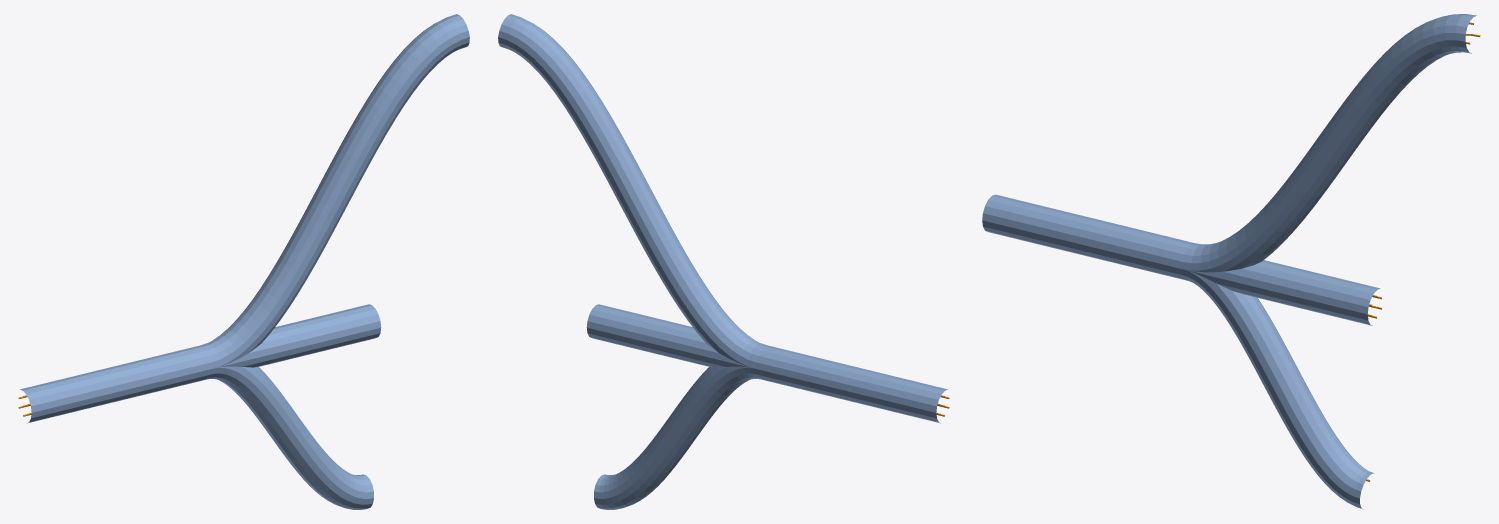
File: 6_branching_A20016147.glb
The picture shows the model from 3 angles, left to right: view 1: azimuth 30°, elevation 25°; view 2: azimuth 150°, elevation 25°; view 3: azimuth 330°, elevation 25°; orthographic projection. The views are drawn at different scales.
Parts seen in each view (by area): view 1: world; view 2: world; view 3: world.
Boxes of the visible parts, x1,y1,x2,y2 form: world: (18,14,469,509); world: (498,14,949,509); world: (982,14,1480,509).
Size of the model in its own units: 291 by 297 by 20.
